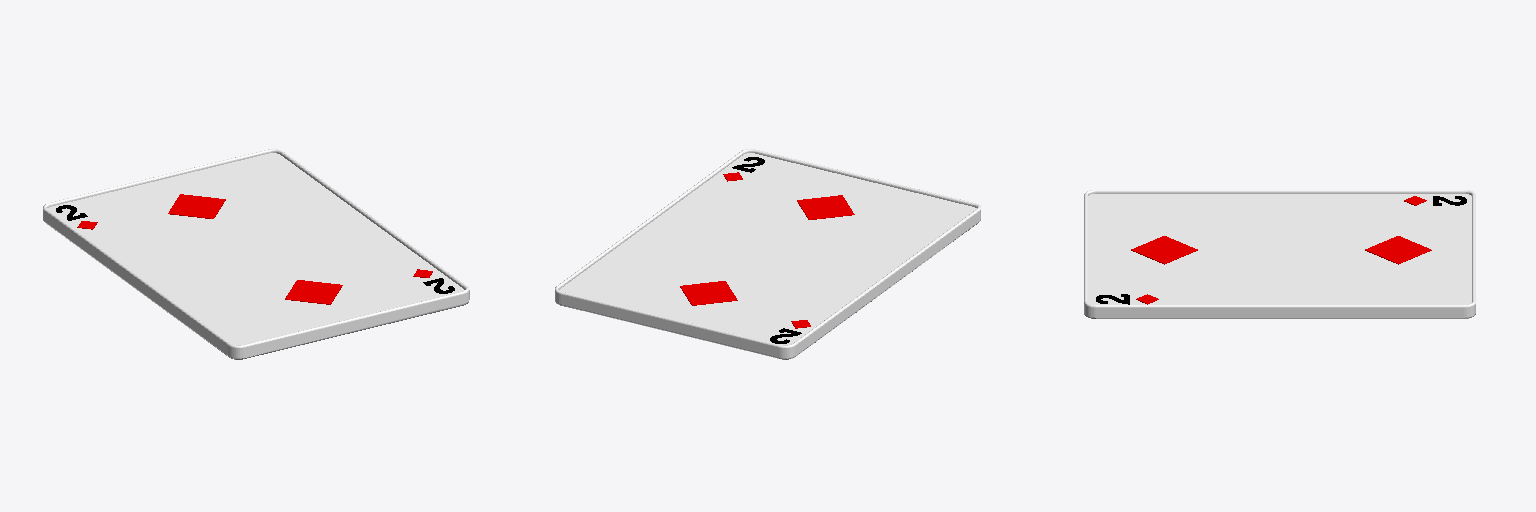
File: diamonds_2.obj
3 renders of one model, left to right at view 1: azimuth 30°, elevation 25°; view 2: azimuth 150°, elevation 25°; view 3: azimuth 270°, elevation 25°, orthographic.
Visible parts, largest first — view 1: rect4266.014, rect4266.068, path4884-1.001, path4884-1-4.001, rect4266.110; view 2: rect4266.014, rect4266.068, path4884-1.001, path4884-1-4.001; view 3: rect4266.014, rect4266.068, path4884-1-4.001, path4884-1.001.
Part boxes in pixels (left/top/right/bottom): rect4266.014: left=47, top=153, right=464, bottom=344; rect4266.068: left=43, top=149, right=469, bottom=358; path4884-1.001: left=168, top=194, right=225, bottom=218; path4884-1-4.001: left=285, top=280, right=342, bottom=304; rect4266.110: left=46, top=223, right=468, bottom=359; rect4266.014: left=559, top=153, right=976, bottom=344; rect4266.068: left=555, top=149, right=980, bottom=358; path4884-1.001: left=680, top=281, right=737, bottom=305; path4884-1-4.001: left=797, top=195, right=854, bottom=219; rect4266.014: left=1088, top=194, right=1471, bottom=304; rect4266.068: left=1084, top=190, right=1475, bottom=318; path4884-1-4.001: left=1131, top=236, right=1197, bottom=264; path4884-1.001: left=1365, top=236, right=1431, bottom=264.
Size of the model in its own units: 2.88 by 0.1966 by 4.08.